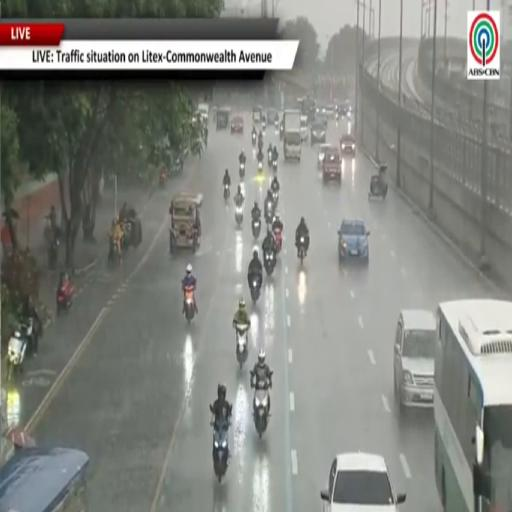bus: (434, 299, 511, 511), (0, 447, 89, 511)
car: (321, 453, 405, 511), (394, 310, 437, 410), (338, 219, 369, 263), (322, 147, 341, 183), (310, 121, 326, 145), (318, 143, 332, 169), (340, 134, 355, 156), (230, 116, 244, 134), (267, 109, 279, 124), (252, 106, 262, 123), (316, 114, 327, 129), (325, 105, 335, 119), (316, 104, 326, 116)
motorcycle: (7, 331, 28, 380), (213, 421, 229, 482), (254, 381, 271, 438), (57, 281, 74, 314), (236, 325, 248, 369), (184, 287, 196, 324), (369, 175, 387, 199), (48, 234, 59, 269), (108, 236, 120, 265), (264, 252, 276, 276), (250, 277, 261, 302), (122, 221, 131, 251), (265, 200, 275, 223), (273, 228, 282, 252), (298, 236, 305, 263), (235, 206, 243, 228), (252, 219, 260, 238), (159, 170, 167, 187), (223, 184, 230, 200), (272, 190, 278, 207), (267, 150, 273, 166), (240, 163, 245, 179), (272, 159, 277, 172), (258, 138, 263, 151), (280, 123, 284, 139), (258, 160, 263, 172), (262, 119, 266, 133), (274, 119, 279, 130), (252, 133, 256, 146)
tricycle: (170, 194, 202, 252), (369, 165, 387, 199)
truck: (283, 109, 301, 161), (198, 103, 209, 124)
